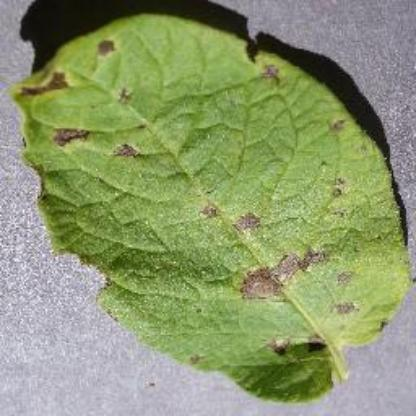Early-Blight: (8, 7, 416, 407)
